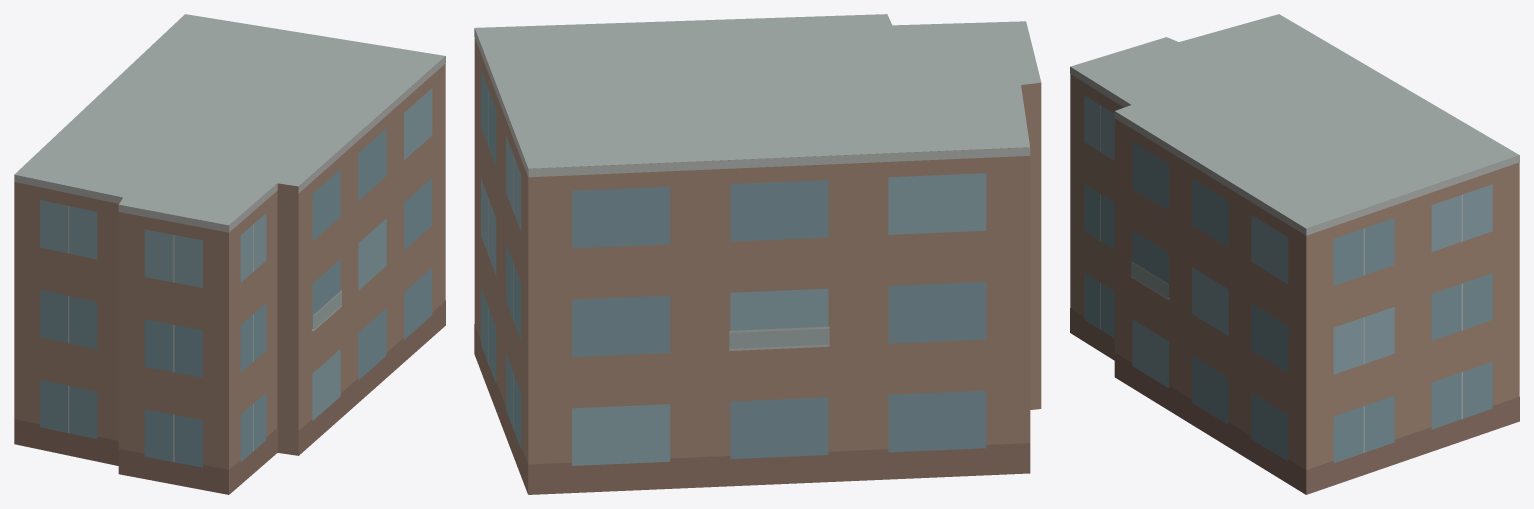
The model's file is survey-upis-32750718.glb.
3 views of the same model, side by side, from view 1: azimuth 30°, elevation 25°; view 2: azimuth 150°, elevation 25°; view 3: azimuth 270°, elevation 25° (orthographic). The views are drawn at different scales.
Parts seen in each view (by area): view 1: survey-upis-32750718.tmp; view 2: survey-upis-32750718.tmp; view 3: survey-upis-32750718.tmp.
Boxes of the visible parts, x1=… form: survey-upis-32750718.tmp: x1=14, y1=14, x2=445, y2=494; survey-upis-32750718.tmp: x1=474, y1=14, x2=1041, y2=494; survey-upis-32750718.tmp: x1=1070, y1=14, x2=1519, y2=494.
Size of the model in its own units: 15.83 by 9.15 by 14.02.
